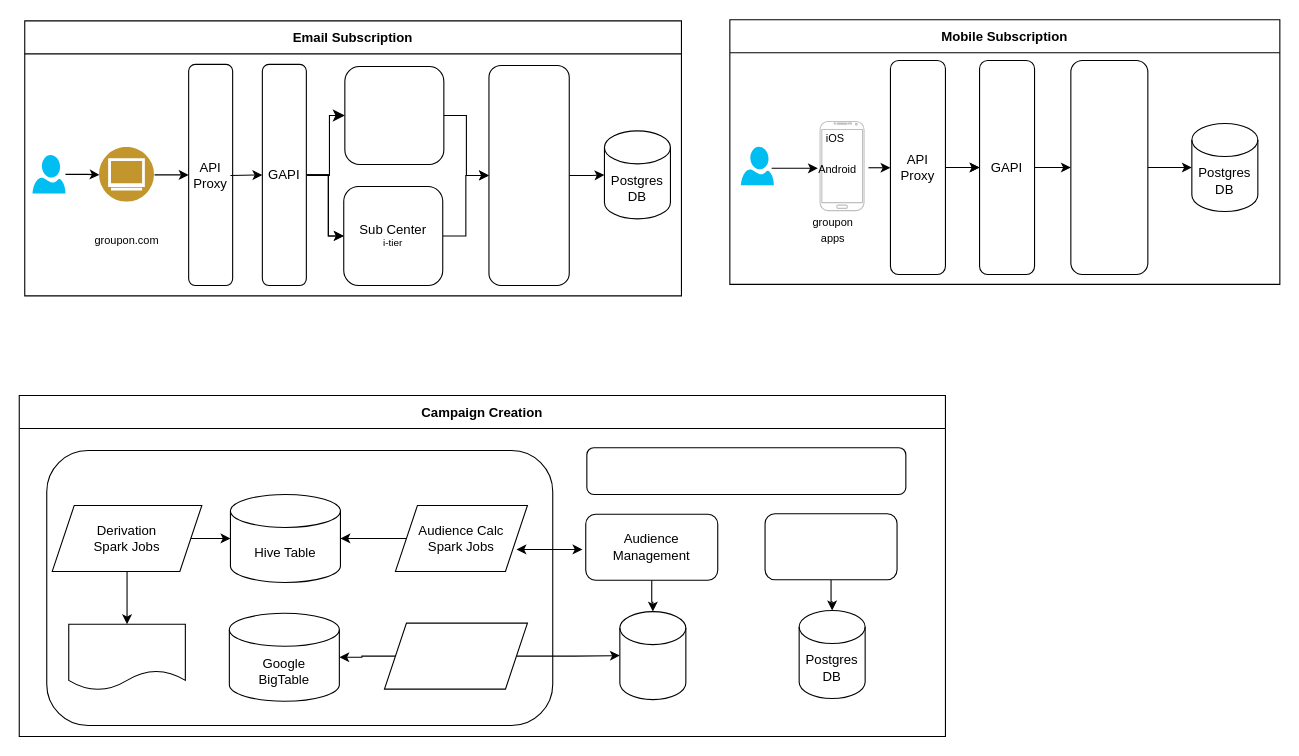
Image size: 1299x756. Some labels were removed from this diagram. Each missing label, with the centre of its shape:
"Audience Payload Spark Jobs" belongs at (x=455, y=655).
"Campaign Management" belongs at (x=830, y=546).
"EDW Tables" belongs at (x=126, y=656).
"Global Subscription Service Rest API" belongs at (x=528, y=174).
"MySQL DB" belongs at (x=652, y=655).
"Push Token Service Rest API" belongs at (x=1109, y=166).
"Sub Flow i-tier" belongs at (x=394, y=114).
"Tetris UI" belongs at (x=746, y=470).
